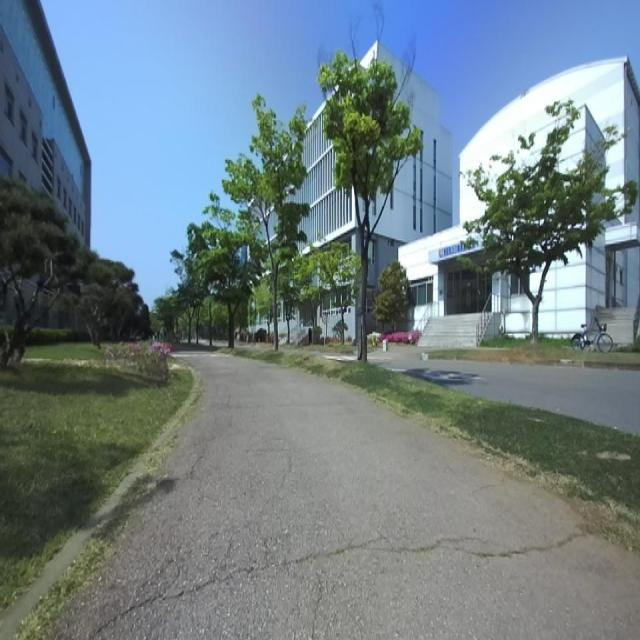sidewalk: (54, 351, 640, 639)
